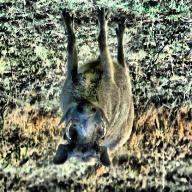boar: (52, 6, 134, 168)
